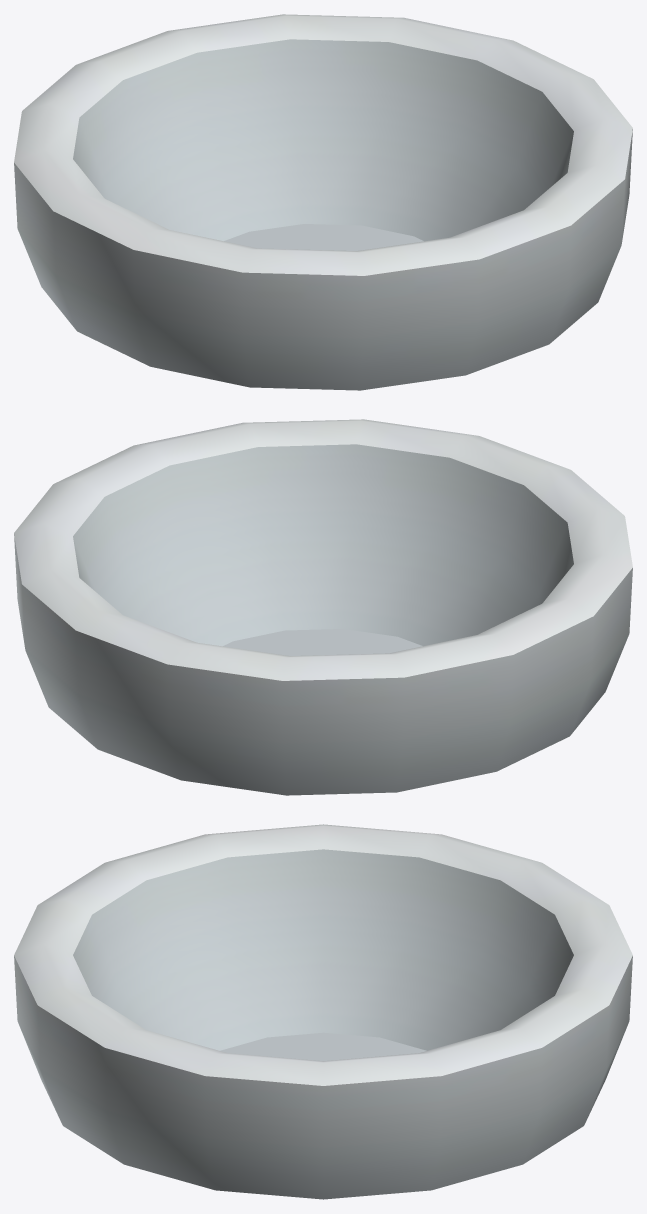
The model's file is bowl.glb.
The picture shows the model from 3 angles, top to bottom: view 1: azimuth 30°, elevation 25°; view 2: azimuth 150°, elevation 25°; view 3: azimuth 270°, elevation 25°; orthographic projection.
Parts seen in each view (by area): view 1: bowl; view 2: bowl; view 3: bowl.
Boxes of the visible parts, left/top/right/bottom form: bowl: left=14, top=14, right=632, bottom=390; bowl: left=14, top=419, right=632, bottom=795; bowl: left=14, top=824, right=632, bottom=1199.
Bounding box in the file's own units: 0.95 × 0.3 × 0.95.
Materials: 1 (1 with a texture image).
